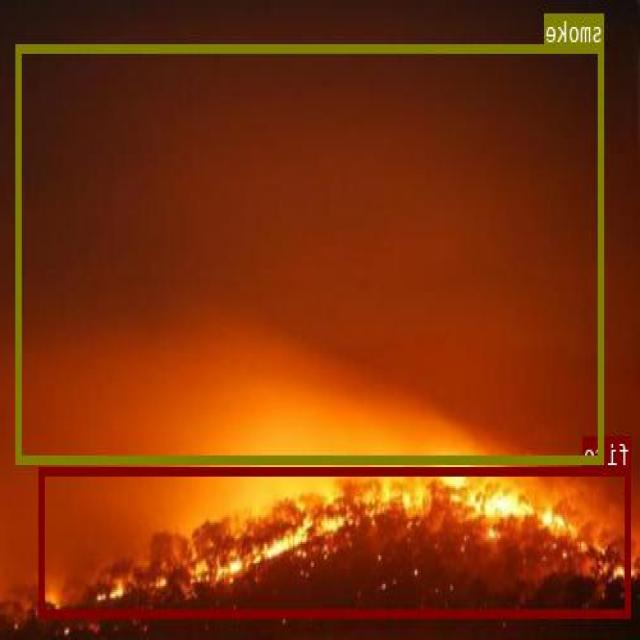fire: (40, 467, 631, 616)
smoke: (18, 44, 605, 462)
